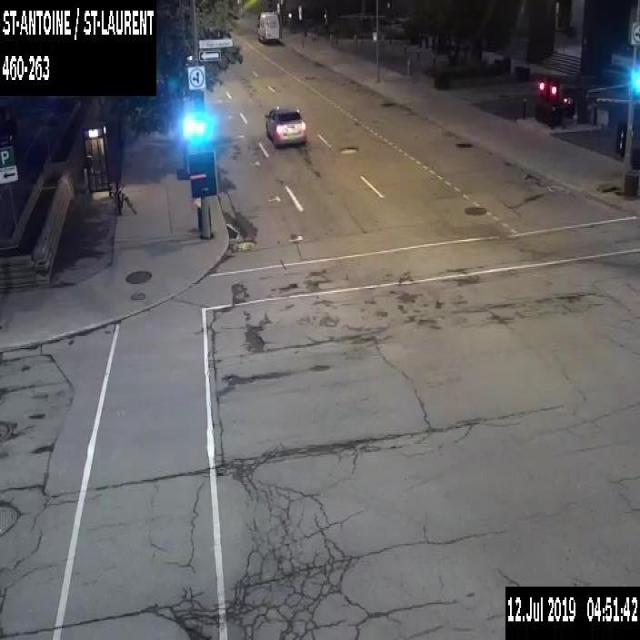vehicle: (264, 101, 306, 148), (256, 10, 280, 42)
